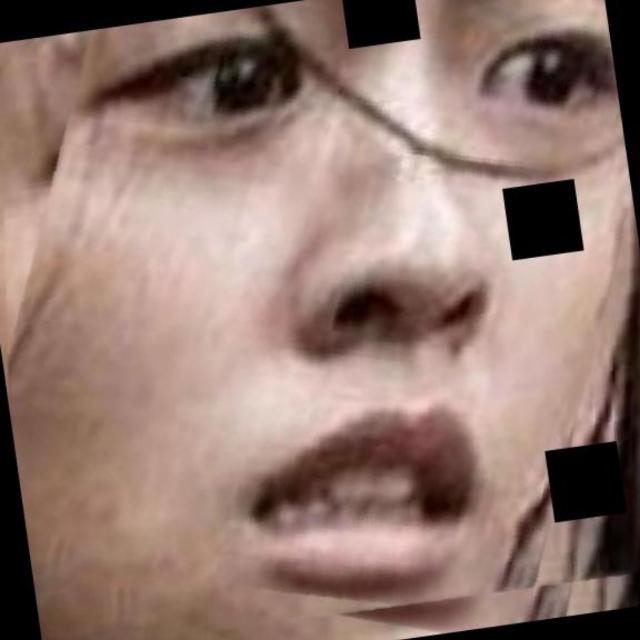Angry: (55, 50, 640, 639)
